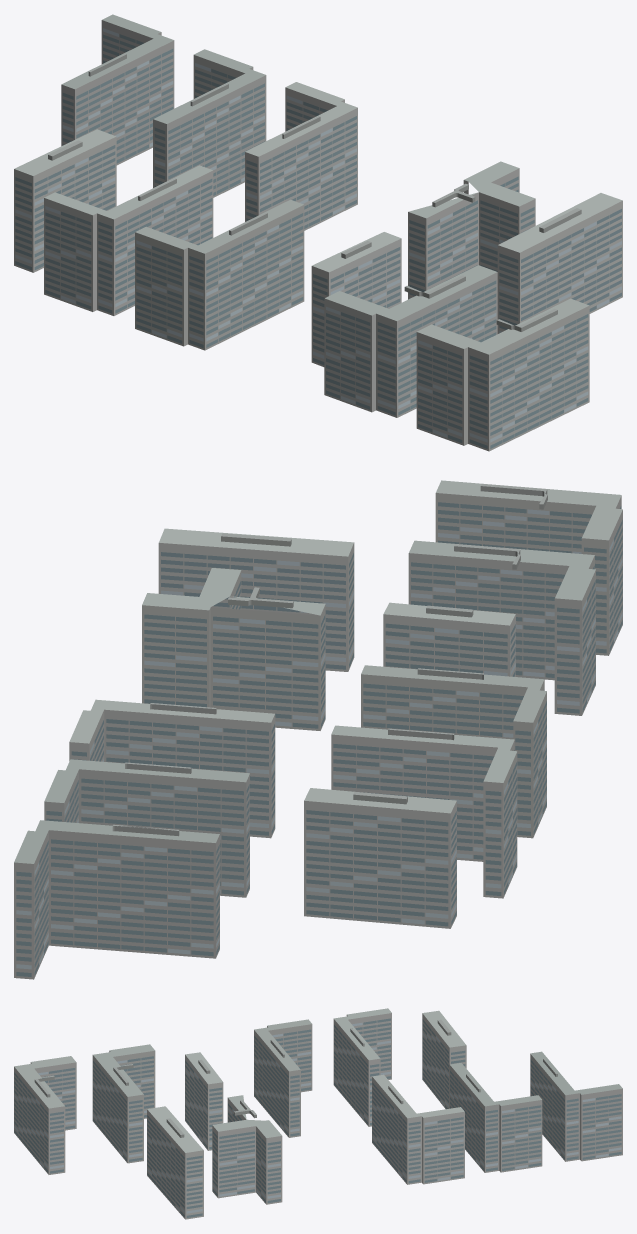
File: apt-a13986505.glb
3 renders of one model, top to bottom at view 1: azimuth 30°, elevation 25°; view 2: azimuth 150°, elevation 25°; view 3: azimuth 270°, elevation 25°, orthographic. The views are drawn at different scales.
Parts seen in each view (by area): view 1: apt-a13986505; view 2: apt-a13986505; view 3: apt-a13986505.
Boxes of the visible parts, x1,y1,x2,y2 form: apt-a13986505: (14, 14, 622, 451); apt-a13986505: (14, 480, 622, 979); apt-a13986505: (14, 1008, 622, 1219).
Size of the model in its own units: 213 by 47.81 by 379.
